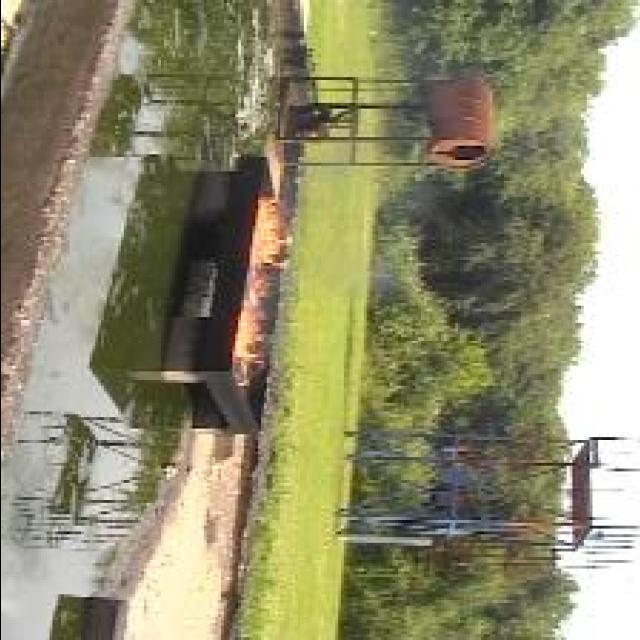Fire: (233, 298, 267, 362), (258, 193, 284, 267)
